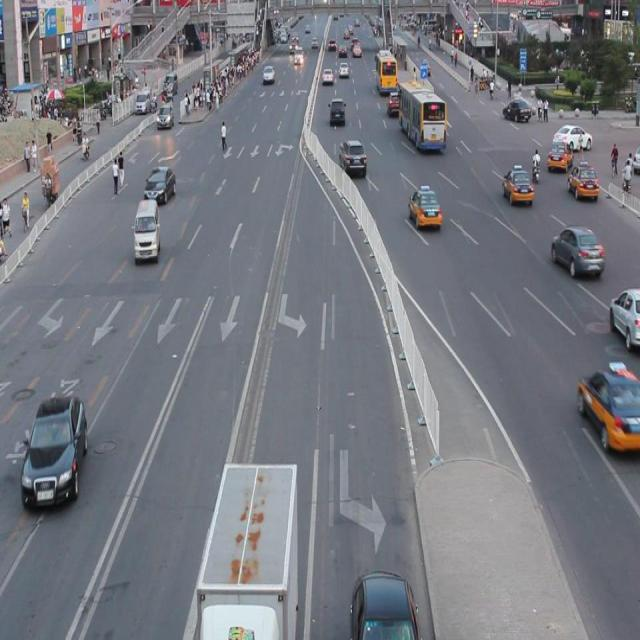bus: (193, 458, 297, 640)
car: (21, 392, 88, 509), (576, 367, 640, 450), (349, 567, 419, 640), (550, 224, 602, 277), (608, 287, 640, 348), (408, 186, 442, 230), (143, 167, 176, 203), (502, 166, 533, 204), (566, 162, 597, 197)
truck: (134, 199, 160, 260)
